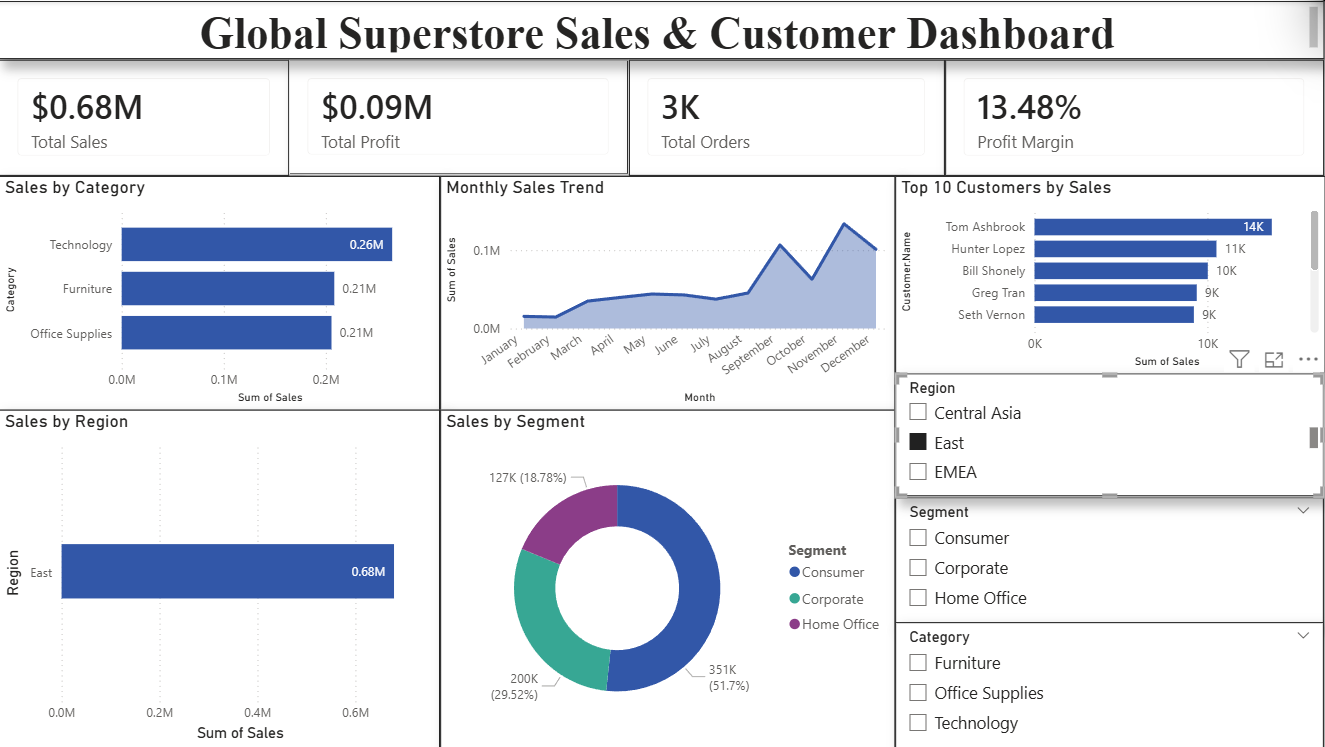

The page's visual inventory and layout, read from the dashboard file:
{"tool":"powerbi","page":{"name":"Page 1","canvas":[1280,720],"ordinal":0},"visuals":[{"type":"cardVisual","fields":{"Data":["Table1.Total Sales"]},"box":[0,56.6,280.3,111.9],"z":0},{"type":"cardVisual","fields":{"Data":["Table1.Total Profit"]},"box":[280.3,56.6,327.5,110.5],"z":1000},{"type":"cardVisual","fields":{"Data":["Table1.Total Orders"]},"box":[607.8,56.6,304.6,111.9],"z":2000},{"type":"cardVisual","fields":{"Data":["Table1.Profit Margin"]},"box":[913.7,56.6,365.2,111.9],"z":3000},{"type":"clusteredBarChart","title":"Sales by Category","fields":{"Category":["Table1.Category"],"Y":["Sum(Table1.Sales)"]},"box":[0,168.5,425.9,226.4],"z":4000},{"type":"lineChart","title":"Monthly Sales Trend","fields":{"Y":["Sum(Table1.Sales)"],"Category":["Table1.Order.Date.Variation.Date Hierarchy.Month"]},"box":[425.9,168.5,439.3,226.4],"z":5000},{"type":"clusteredBarChart","title":"Sales by Region","fields":{"Category":["Table1.Region"],"Y":["Sum(Table1.Sales)"]},"box":[0,394.9,425.9,326.1],"z":6000},{"type":"donutChart","title":"Sales by Segment","fields":{"Category":["Table1.Segment"],"Y":["Sum(Table1.Sales)"]},"box":[425.9,394.9,439.3,326.1],"z":7000},{"type":"clusteredBarChart","title":"Top 10 Customers by Sales","fields":{"Category":["Table1.Customer.Name"],"Y":["Sum(Table1.Sales)"]},"box":[865.2,168.5,415.1,191.4],"z":8000},{"type":"slicer","fields":{"Values":["Table1.Region"]},"box":[865.2,359.8,413.7,118.6],"z":9000},{"type":"slicer","fields":{"Values":["Table1.Segment"]},"box":[865.2,478.4,413.7,121.3],"z":10000},{"type":"slicer","fields":{"Values":["Table1.Category"]},"box":[865.2,599.7,413.7,121.3],"z":11000},{"type":"textbox","box":[0,0,1278.8,55.7],"z":12000}]}

Visuals, with their boxes in screenshot pixels (x1, y1, x2, y2), scaled from the page's 1280x720 canvas onto the 1325x747 screenshot:
cardVisual - Table1.Total Sales: Rect(0, 59, 290, 175)
cardVisual - Table1.Total Profit: Rect(290, 59, 629, 173)
cardVisual - Table1.Total Orders: Rect(629, 59, 944, 175)
cardVisual - Table1.Profit Margin: Rect(946, 59, 1324, 175)
"Sales by Category" clusteredBarChart: Rect(0, 175, 441, 410)
"Monthly Sales Trend" lineChart: Rect(441, 175, 896, 410)
"Sales by Region" clusteredBarChart: Rect(0, 410, 441, 746)
"Sales by Segment" donutChart: Rect(441, 410, 896, 746)
"Top 10 Customers by Sales" clusteredBarChart: Rect(896, 175, 1324, 373)
slicer - Table1.Region: Rect(896, 373, 1324, 496)
slicer - Table1.Segment: Rect(896, 496, 1324, 622)
slicer - Table1.Category: Rect(896, 622, 1324, 746)
textbox: Rect(0, 0, 1324, 58)
